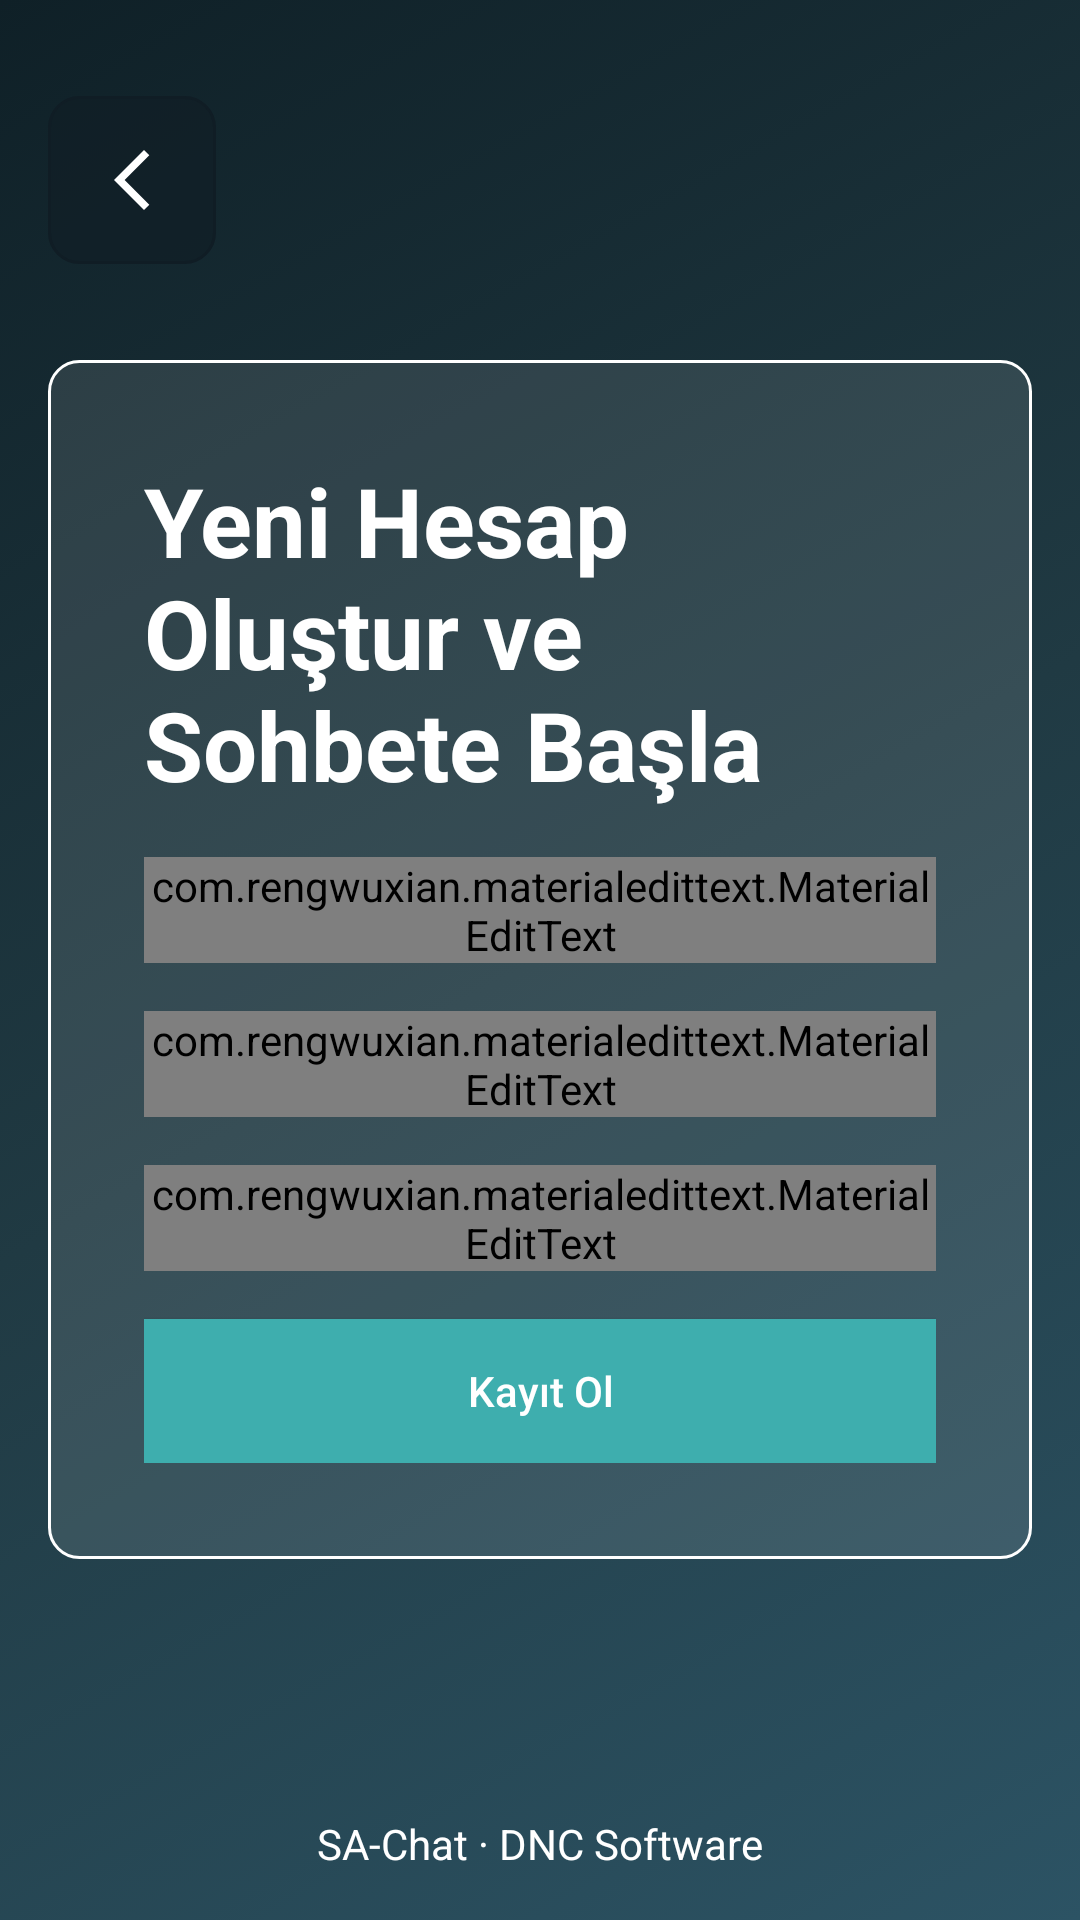

Where to tap for icons on this 1080x1920 app screen, as (x,y):
back: (131,180)
